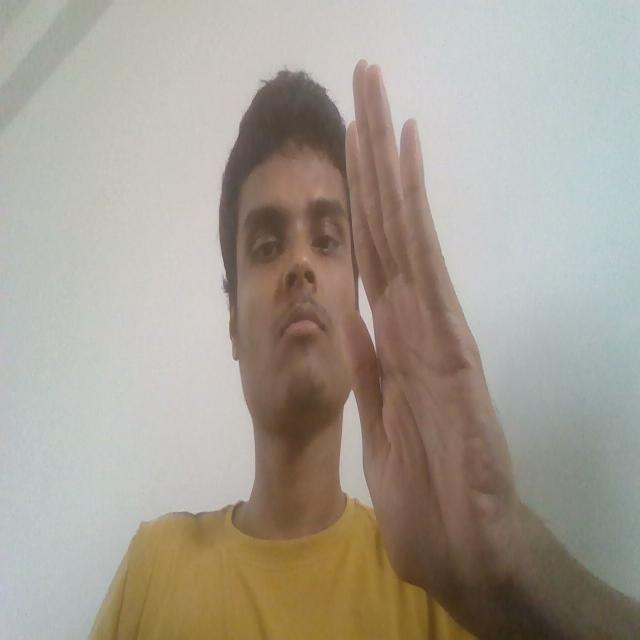Hello: (317, 37, 543, 640)
